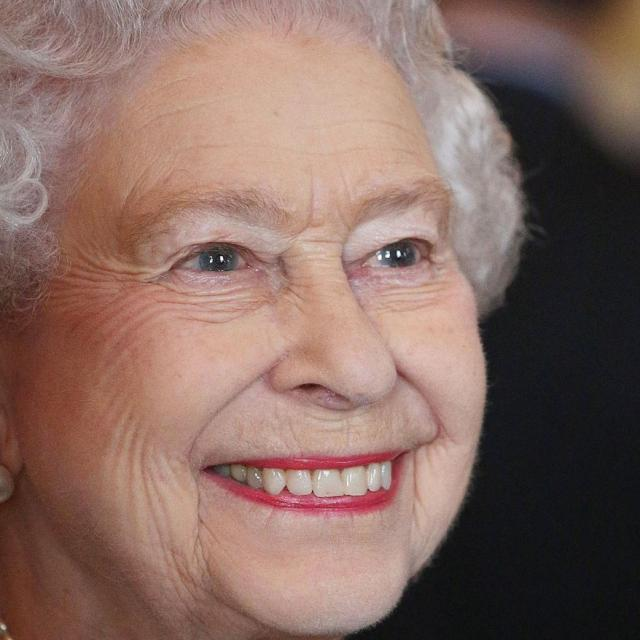Normal: (35, 18, 487, 634)
